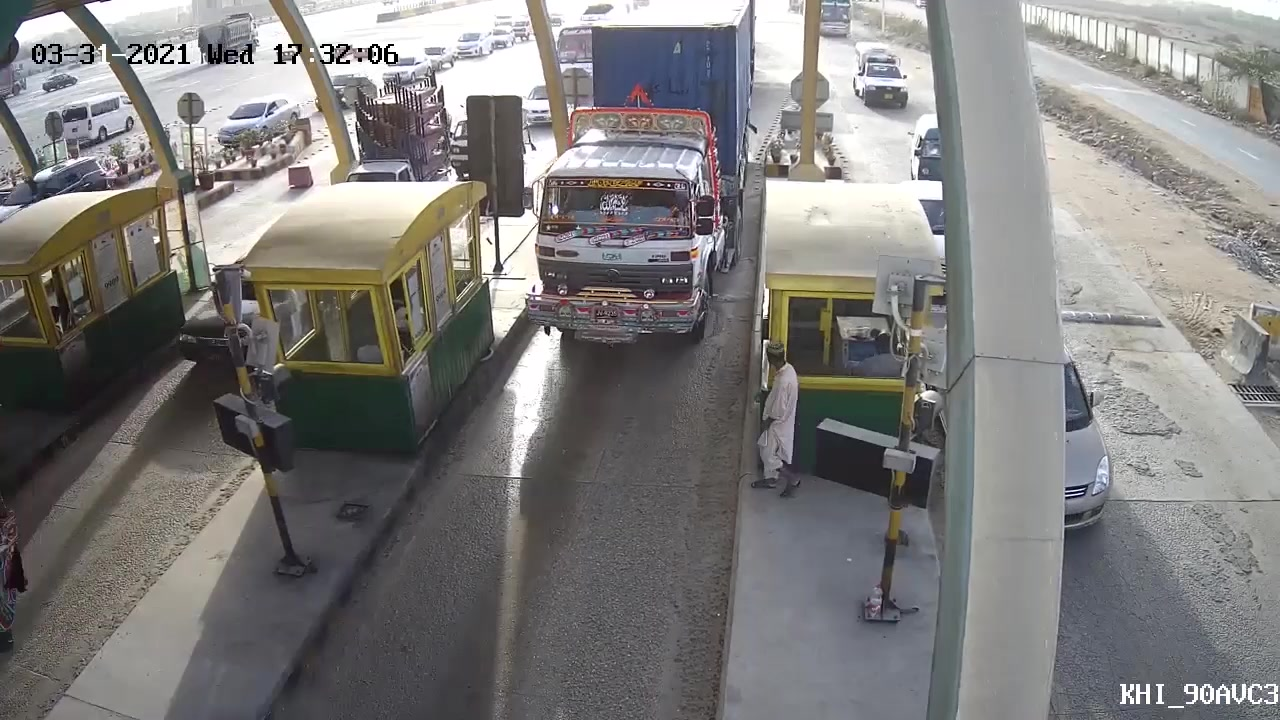F5: (505, 16, 753, 347)
